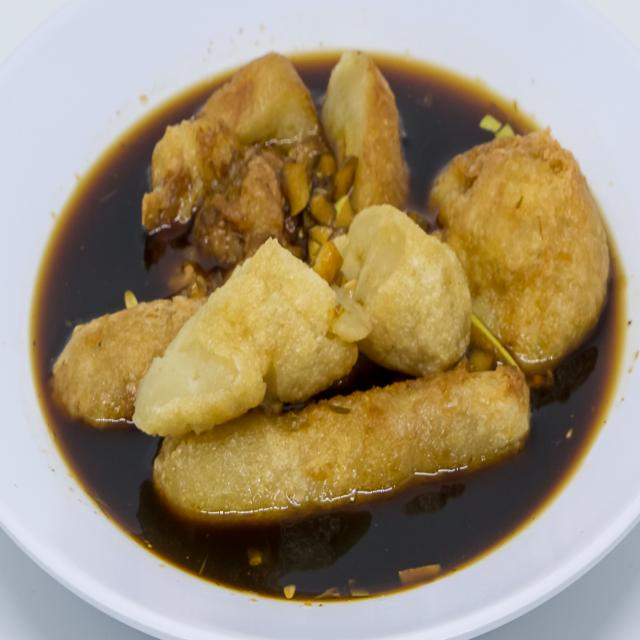Pempek-Palembang: (52, 47, 612, 533)
